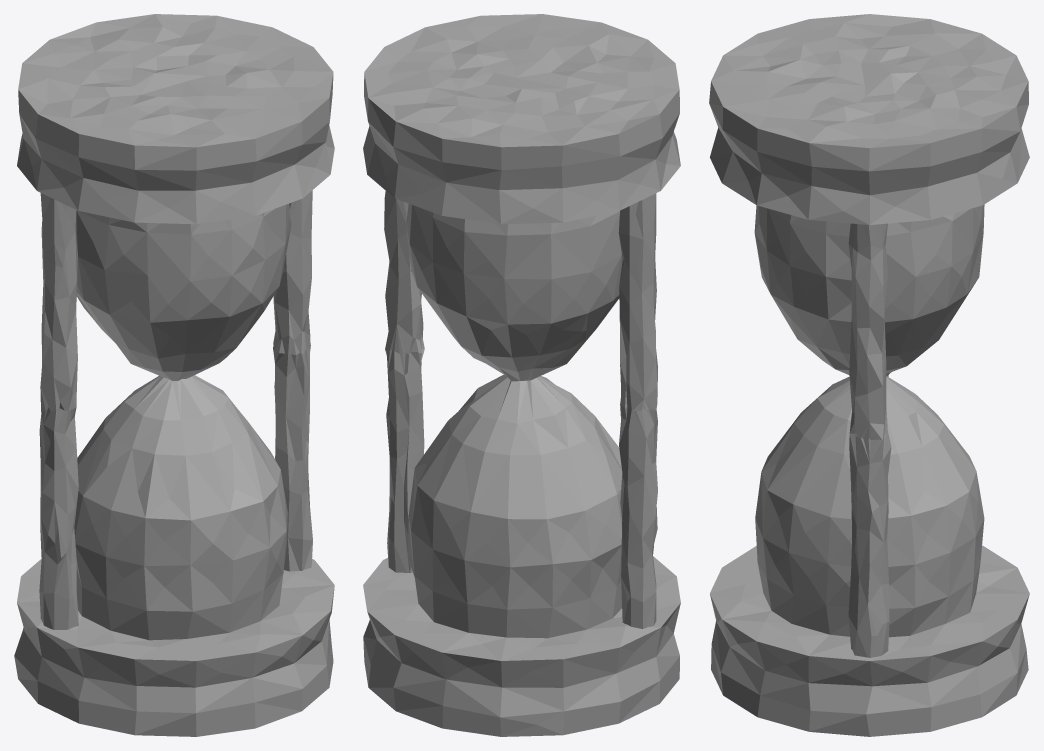
The model's file is hourglass.fbx.
The picture shows the model from 3 angles, left to right: view 1: azimuth 30°, elevation 25°; view 2: azimuth 150°, elevation 25°; view 3: azimuth 270°, elevation 25°; orthographic projection.
Parts seen in each view (by area): view 1: Hourglass; view 2: Hourglass; view 3: Hourglass.
Boxes of the visible parts, x1,y1,x2,y2 form: Hourglass: [14, 14, 334, 736]; Hourglass: [363, 14, 680, 736]; Hourglass: [709, 14, 1029, 736].
Size of the model in its own units: 121 by 245 by 120.
